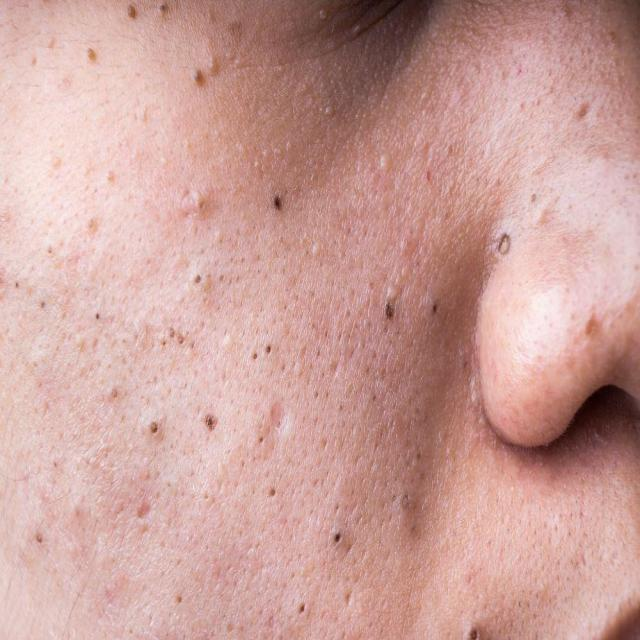dark spot: (135, 396, 186, 472), (257, 465, 291, 511), (244, 329, 278, 374), (165, 318, 193, 362), (392, 478, 426, 513), (332, 506, 352, 554), (287, 590, 313, 622), (462, 615, 489, 640)
